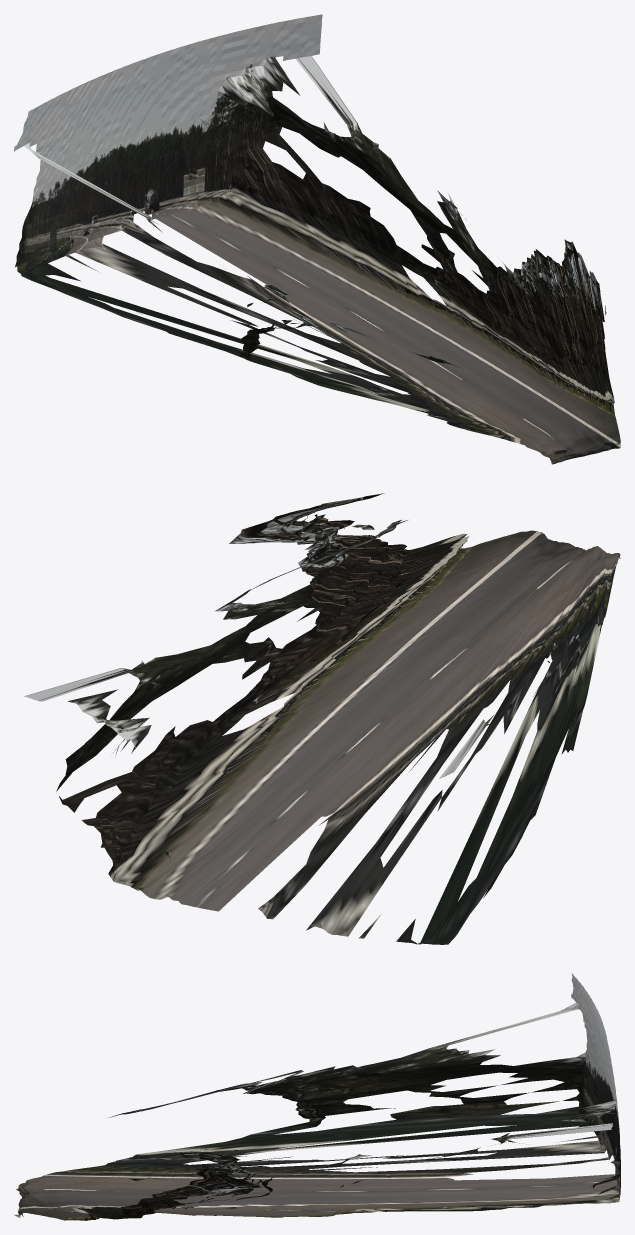
3 renders of one model, top to bottom at view 1: azimuth 30°, elevation 25°; view 2: azimuth 150°, elevation 25°; view 3: azimuth 270°, elevation 25°, orthographic. The views are drawn at different scales.
Parts seen in each view (by area): view 1: defaultobject; view 2: defaultobject; view 3: defaultobject.
Boxes of the visible parts, x1,y1,x2,y2 form: defaultobject: [14, 14, 620, 464]; defaultobject: [24, 493, 620, 944]; defaultobject: [14, 973, 620, 1220].
Bounding box in the file's own units: 26.42 × 12.29 × 44.55.
Materials: 1 (1 with a texture image).
